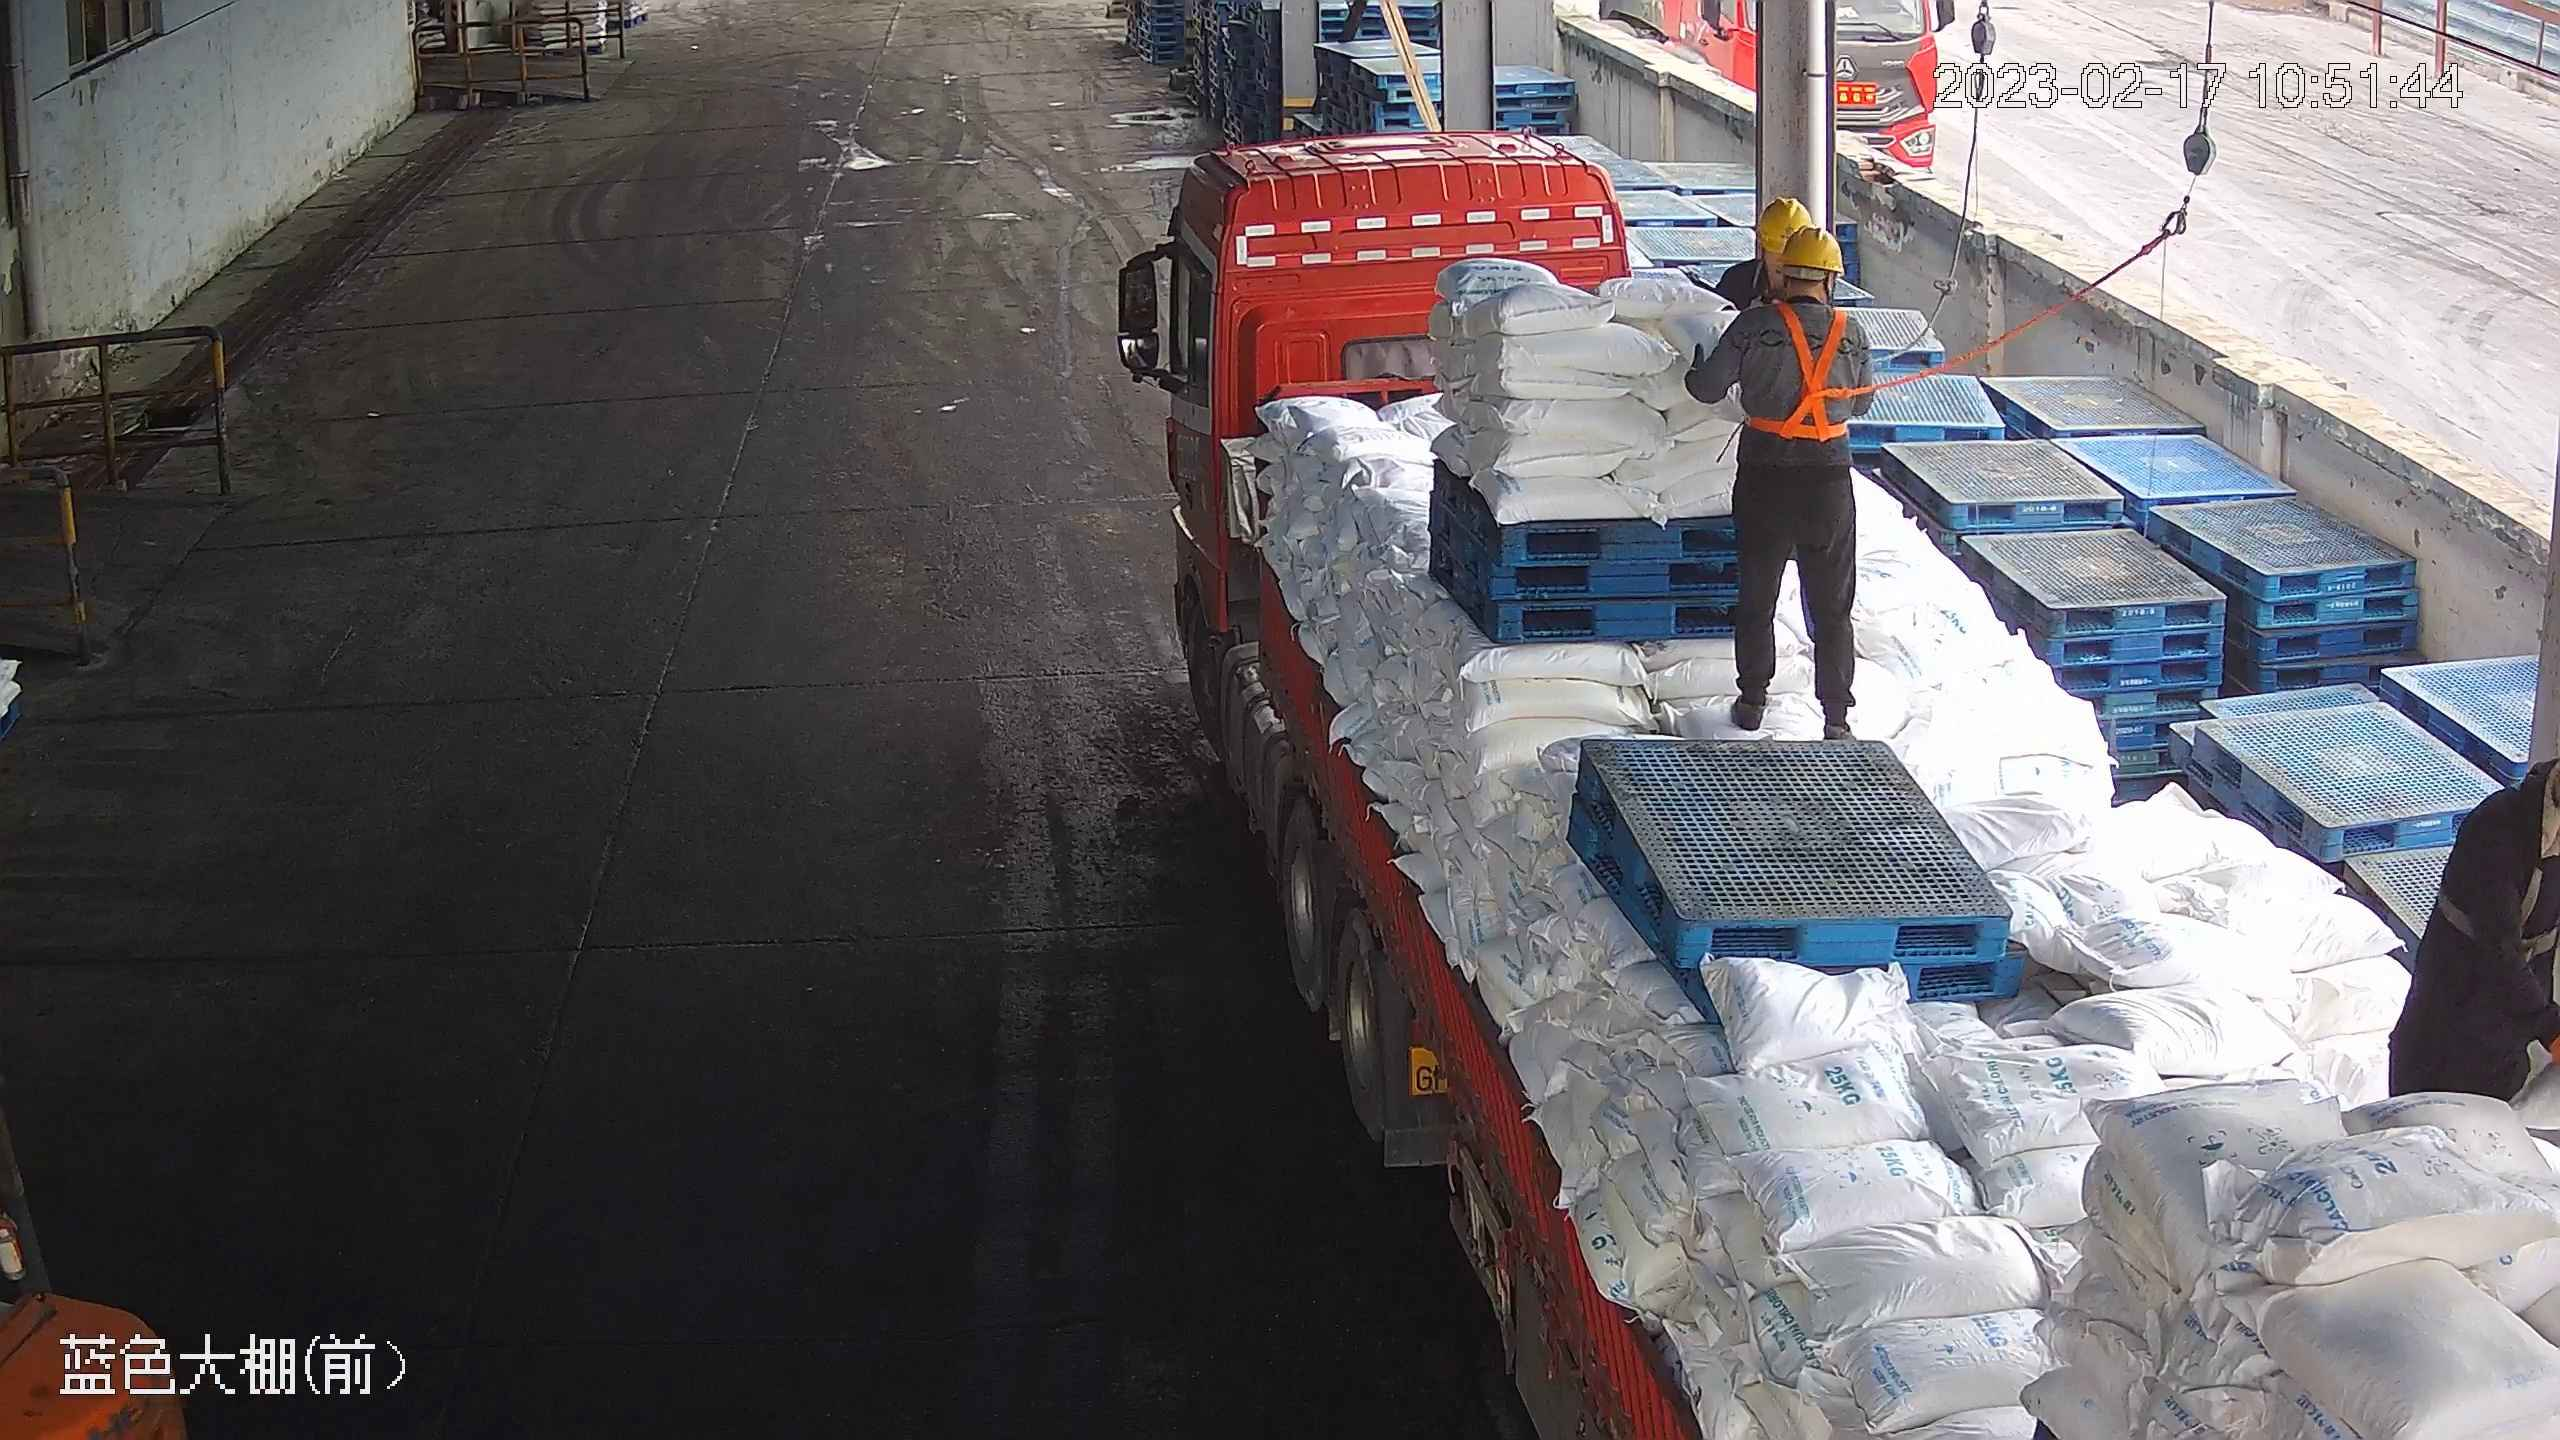belt: (2432, 789, 2560, 960), (1741, 295, 1871, 441)
head: (1729, 220, 1872, 358)
helmet: (1757, 201, 1829, 266), (1776, 223, 1843, 272)
people: (1680, 211, 1876, 737)
truck: (1063, 132, 2560, 1436)
